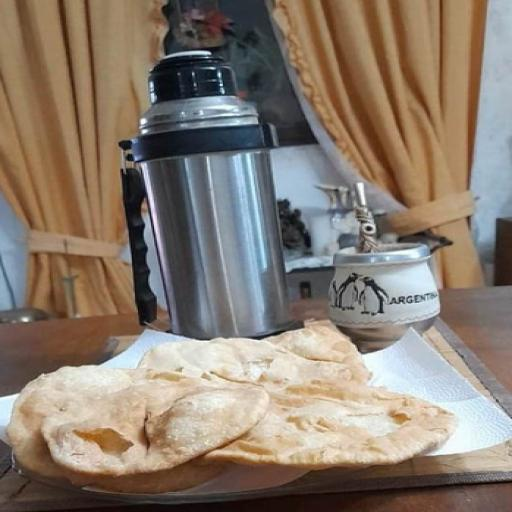bolleria: (204, 384, 457, 470), (43, 381, 269, 477)
mate: (329, 243, 440, 351)
termo: (119, 51, 291, 338)
